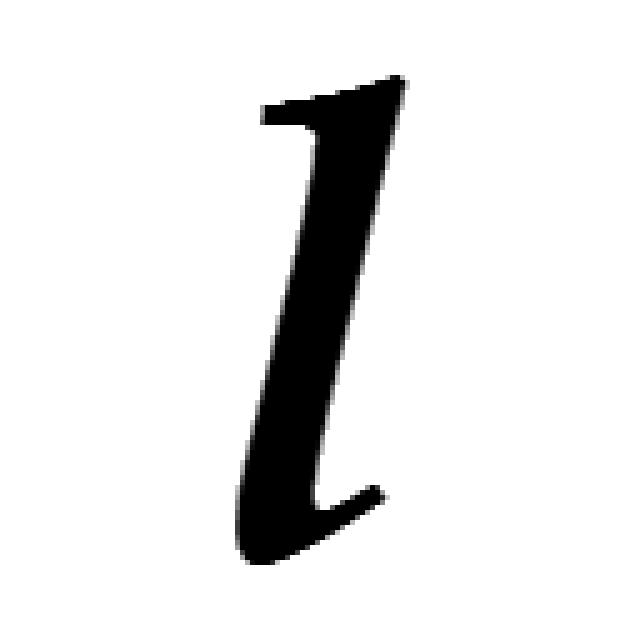L: (239, 76, 413, 578)
